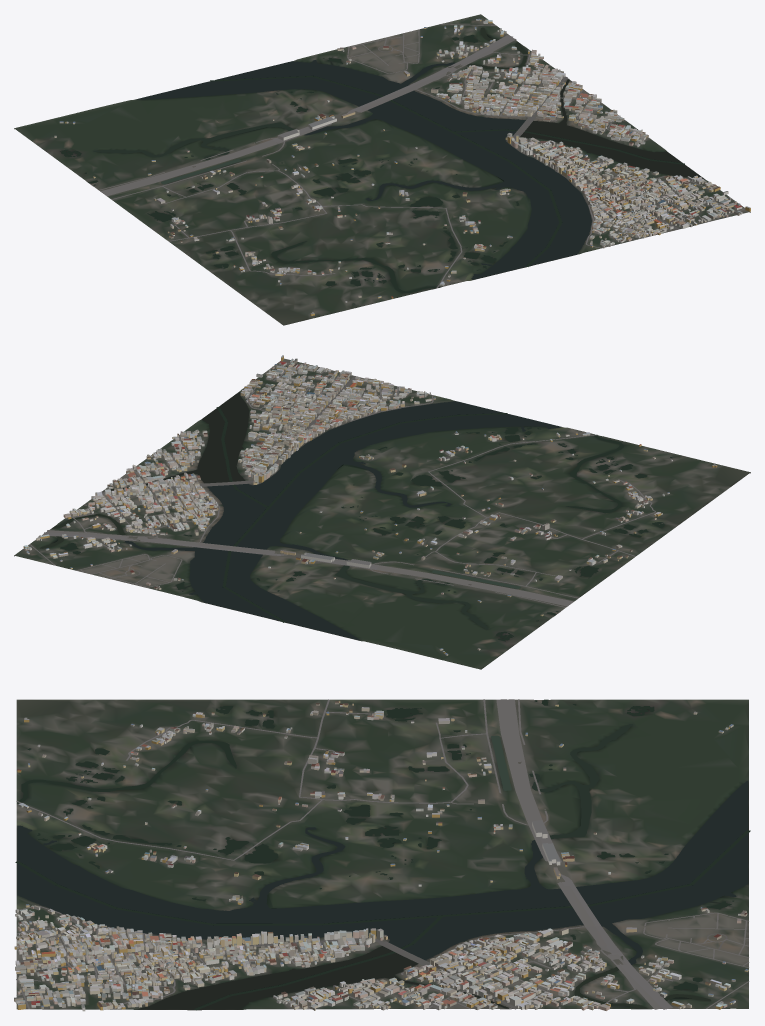
3 views of the same model, one above another, from view 1: azimuth 30°, elevation 25°; view 2: azimuth 150°, elevation 25°; view 3: azimuth 270°, elevation 25° (orthographic). The views are drawn at different scales.
Parts seen in each view (by area): view 1: ground, water, buildings, roads; view 2: ground, water, buildings, roads; view 3: ground, water, buildings, roads.
Part boxes in pixels (left/top/right/bottom): ground: left=14, top=14, right=750, bottom=325; water: left=60, top=27, right=705, bottom=304; buildings: left=54, top=18, right=750, bottom=315; roads: left=99, top=24, right=745, bottom=288; ground: left=14, top=358, right=750, bottom=669; water: left=40, top=391, right=672, bottom=641; buildings: left=23, top=355, right=717, bottom=655; roads: left=29, top=361, right=655, bottom=607; ground: left=16, top=699, right=748, bottom=1010; water: left=15, top=699, right=750, bottom=1010; buildings: left=14, top=700, right=748, bottom=1011; roads: left=16, top=699, right=749, bottom=1009.
Bounding box in the file's own units: 1410 × 27.3 × 1410.
